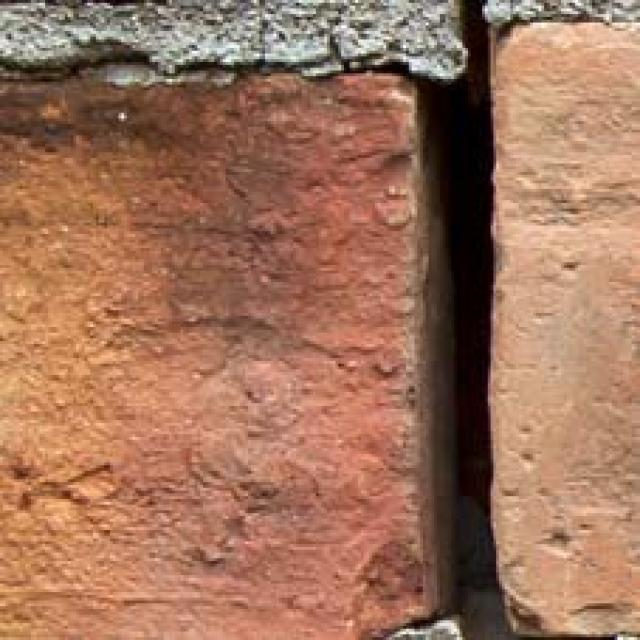Crack: (296, 0, 601, 640)
